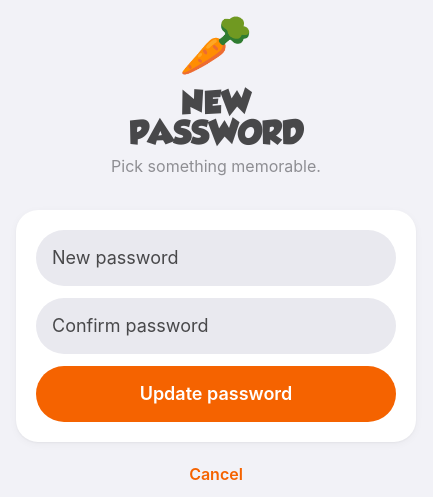
it: Reset › updates the password and signs the user out on success
Type "abcd1234" into the password field with placeholder "New password" at (216, 258), box [36, 230, 396, 286]
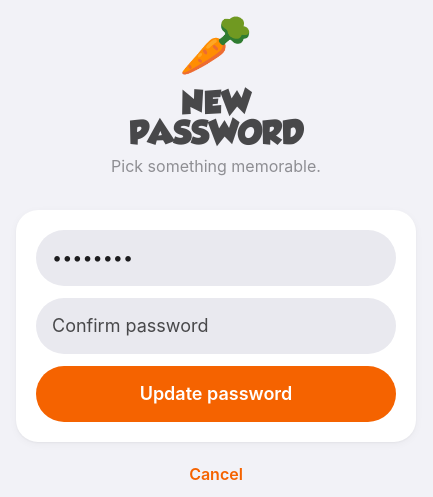
Type "abcd1234" into the password field with placeholder "Confirm password" at (216, 326), box [36, 298, 396, 354]
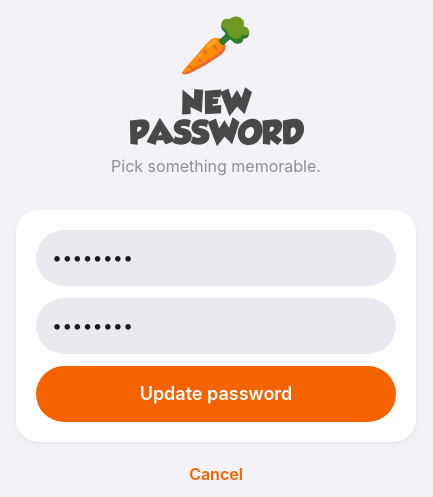
Click the button "Update password" at (216, 394), box [36, 366, 396, 422]
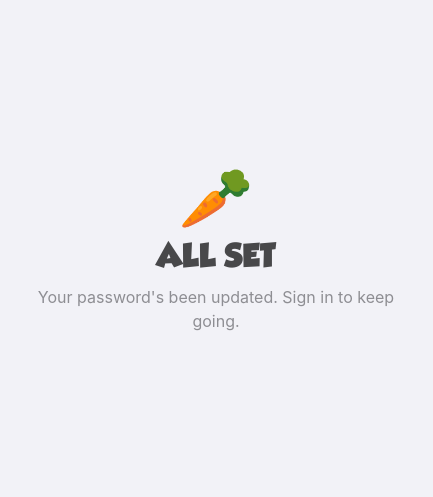
Expected: the heading "All set" is shown, [156, 243, 276, 273]
